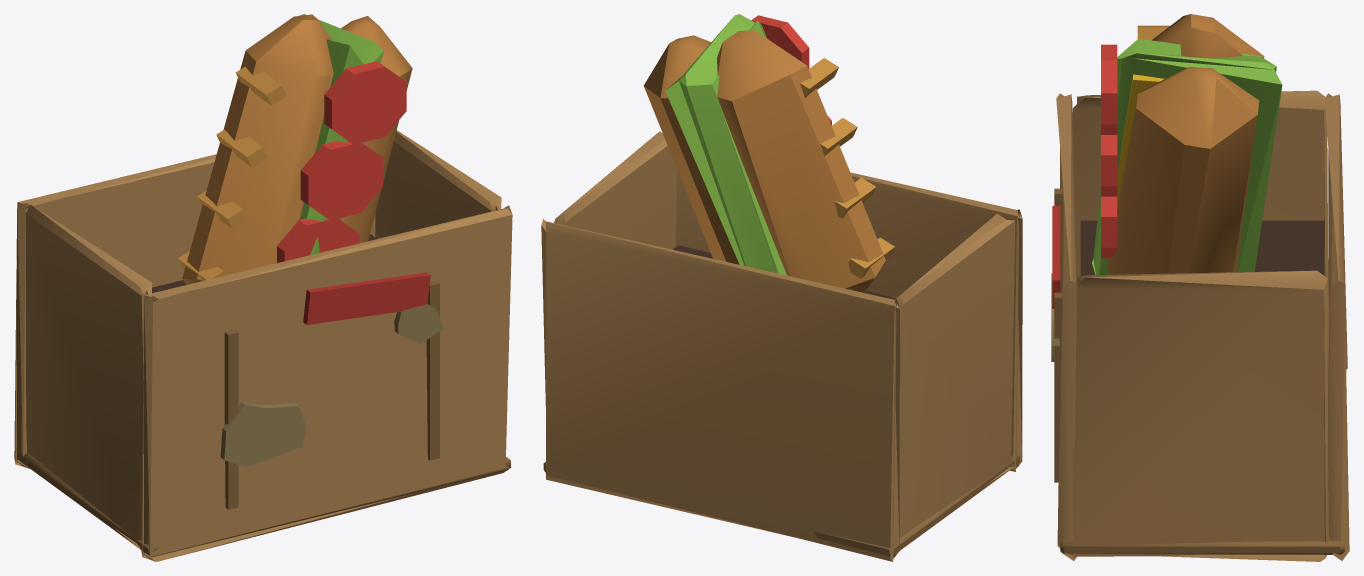
Rendered from 96_repas_sdf.fbx.
3 views of the same model, side by side, from view 1: azimuth 30°, elevation 25°; view 2: azimuth 150°, elevation 25°; view 3: azimuth 270°, elevation 25° (orthographic). The views are drawn at different scales.
Parts seen in each view (by area): view 1: Sac, Sandwich; view 2: Sac, Sandwich; view 3: Sac, Sandwich.
Part boxes in pixels (x1,y1,x2,y2): Sac: [14, 130, 512, 561]; Sandwich: [177, 14, 412, 284]; Sac: [541, 131, 1022, 561]; Sandwich: [643, 14, 894, 292]; Sac: [1051, 90, 1349, 561]; Sandwich: [1092, 14, 1282, 274].
Bounding box in the file's own units: 0.336 × 0.392 × 0.224.
1 material, 1 textured.
